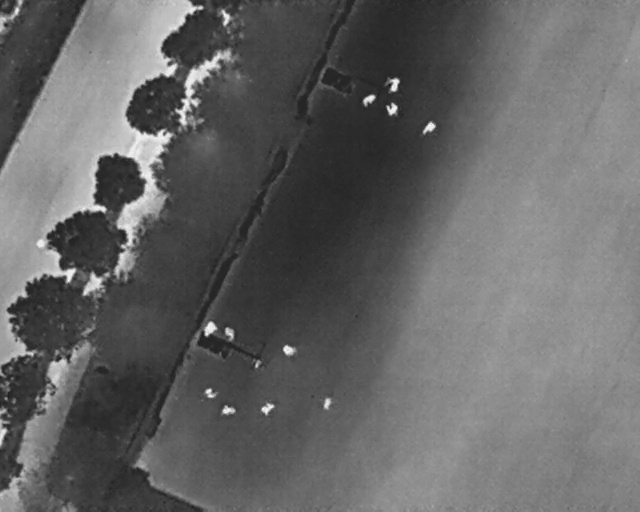Person: (256, 396, 278, 419), (200, 317, 220, 341), (357, 90, 379, 111), (419, 118, 439, 140), (383, 75, 402, 95), (385, 102, 400, 118), (221, 404, 236, 417), (321, 396, 333, 412), (203, 387, 219, 399), (282, 345, 297, 357), (225, 327, 235, 344)
